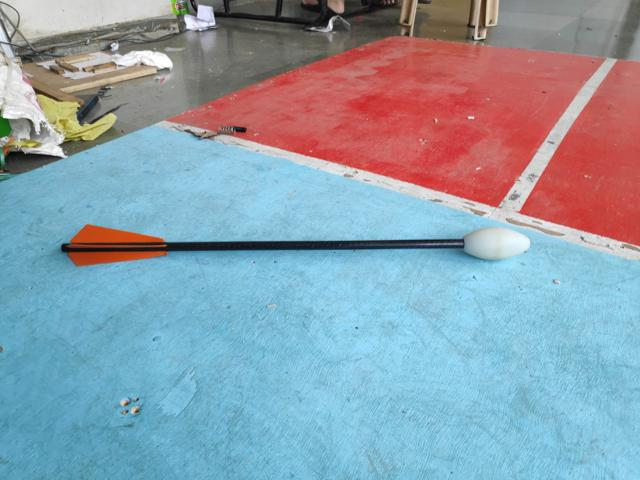Head: (459, 225, 532, 262)
Tail: (58, 222, 172, 268)
